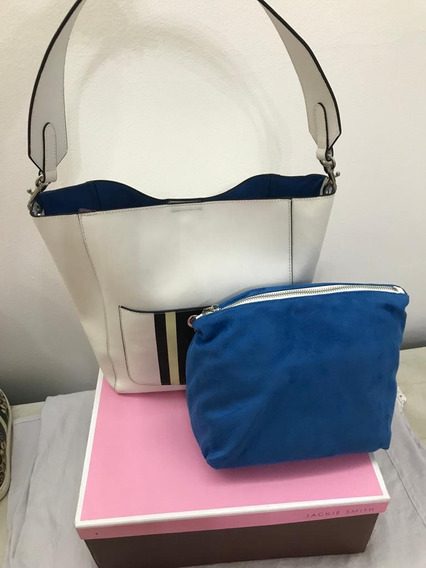cartera: (20, 168, 346, 397)
